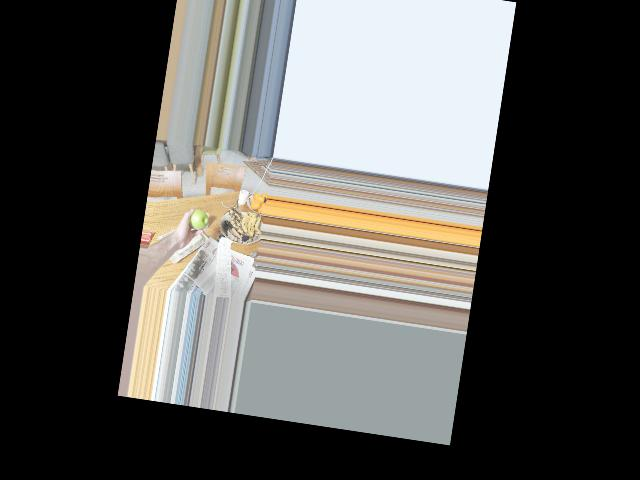apple: (184, 207, 208, 232)
